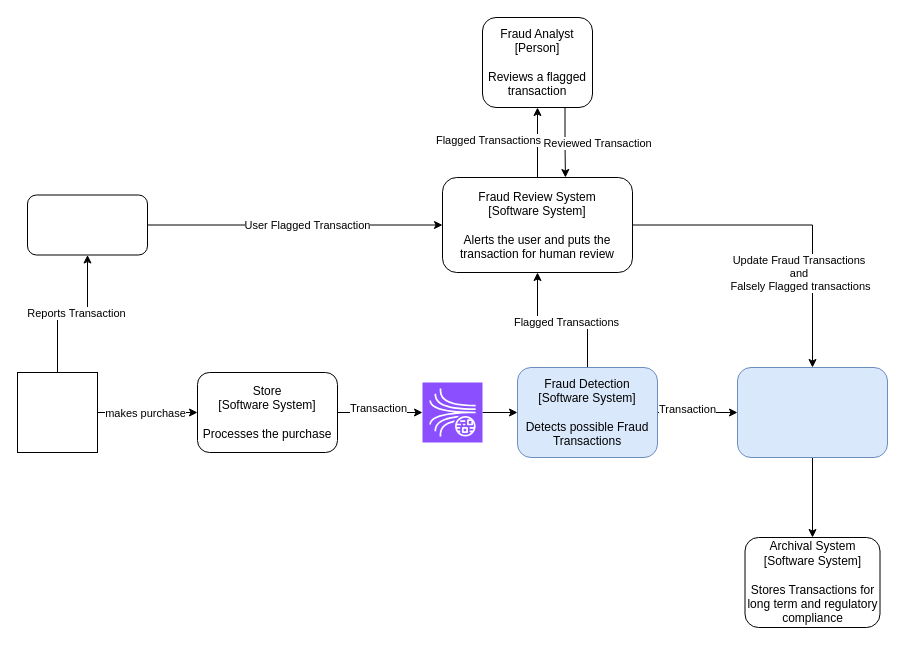
The diagram is 905 pixels wide and 645 high, and some of its shapes have lost their labels. The centre of each missing label's shape, as x and y in pixels:
Analytics System [Software System] Prepares data for analytics and model updates: the point at 812,412
Customer Support: the point at 87,224
User [Person] Makes a purchase: the point at 57,412
